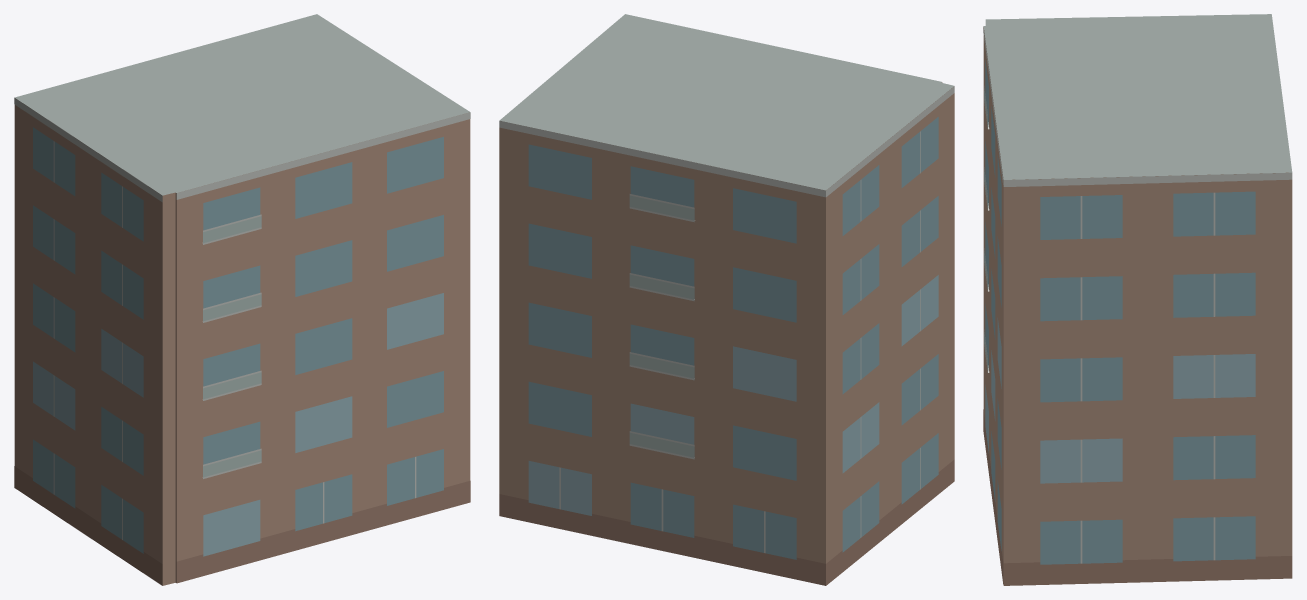
The model's file is survey-upis-32687240.glb.
3 renders of one model, left to right at view 1: azimuth 30°, elevation 25°; view 2: azimuth 150°, elevation 25°; view 3: azimuth 270°, elevation 25°, orthographic. The views are drawn at different scales.
Visible parts, largest first — view 1: survey-upis-32687240.tmp; view 2: survey-upis-32687240.tmp; view 3: survey-upis-32687240.tmp.
Part boxes in pixels (bbox=[...]): survey-upis-32687240.tmp: bbox=[14, 14, 470, 585]; survey-upis-32687240.tmp: bbox=[499, 14, 954, 585]; survey-upis-32687240.tmp: bbox=[983, 14, 1292, 585].
Size of the model in its own units: 12.18 by 13.88 by 9.58.
